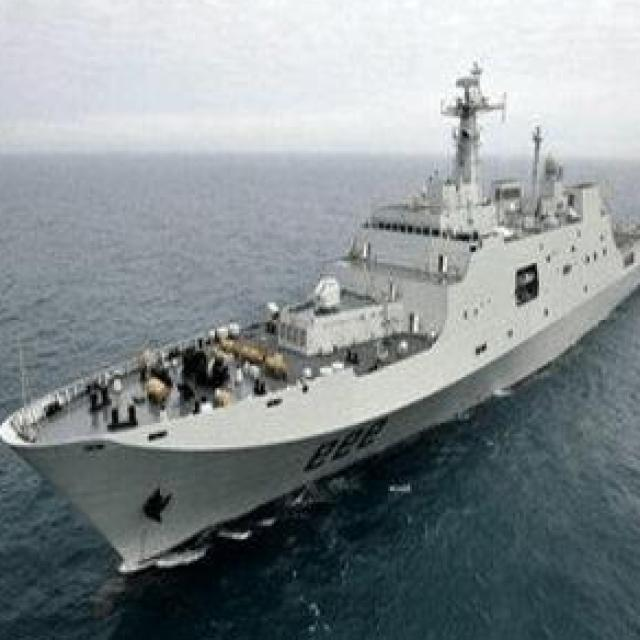navalvessels: (2, 48, 640, 574)
